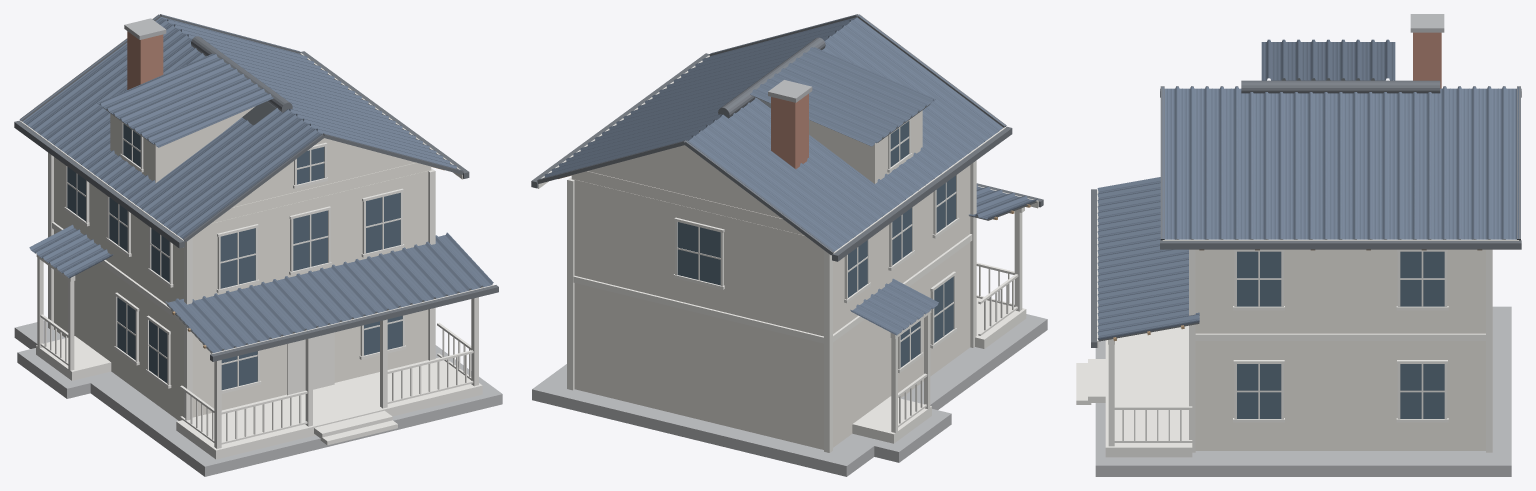
Rendered from Mega_Hi_Rib_Compact_Porch_House.glb.
3 renders of one model, left to right at view 1: azimuth 30°, elevation 25°; view 2: azimuth 150°, elevation 25°; view 3: azimuth 270°, elevation 25°, orthographic. The views are drawn at different scales.
Parts seen in each view (by area): view 1: Main_Walls, Porch_Deck_Front, Foundation_Main, RoofSheet_16, RoofSheet_15, Gable_Wall_Front, RoofSheet_09, RoofSheet_10, RoofSheet_19, RoofSheet_18, RoofSheet_17, Gutter_Porch (+60 smaller); view 2: Main_Walls, Foundation_Main, Gable_Wall_Back, RoofSheet_09, RoofSheet_16, RoofSheet_10, RoofSheet_11, RoofSheet_19, RoofSheet_18, RoofSheet_15, SecondFloor_BandTrim, Gable_Band_Back (+41 smaller); view 3: Main_Walls, Foundation_Main, Porch_Deck_Front, RoofSheet_01, RoofSheet_02, RoofSheet_07, RoofSheet_03, RoofSheet_08, RoofSheet_04, RoofSheet_06, RoofSheet_05, Gutter_Right (+27 smaller).
Part boxes in pixels (box(x1,y1,x2,y2)): Main_Walls: box(54, 157, 431, 420); Porch_Deck_Front: box(176, 357, 482, 459); Foundation_Main: box(14, 320, 502, 476); RoofSheet_16: box(163, 119, 322, 239); RoofSheet_15: box(143, 108, 301, 224); Gable_Wall_Front: box(232, 138, 415, 207); RoofSheet_09: box(20, 15, 179, 135); RoofSheet_10: box(41, 30, 195, 149); RoofSheet_19: box(138, 83, 273, 147); RoofSheet_18: box(118, 68, 253, 132); RoofSheet_17: box(97, 53, 232, 117); Gutter_Porch: box(210, 285, 498, 361); Main_Walls: box(572, 165, 970, 449); Foundation_Main: box(532, 314, 1047, 476); Gable_Wall_Back: box(588, 132, 781, 218); RoofSheet_09: box(687, 125, 854, 251); RoofSheet_16: box(837, 15, 1005, 141); RoofSheet_10: box(708, 113, 876, 236); RoofSheet_11: box(734, 97, 897, 220); RoofSheet_19: box(793, 47, 935, 114); RoofSheet_18: box(771, 63, 914, 130); RoofSheet_15: box(822, 31, 983, 157); SecondFloor_BandTrim: box(573, 234, 972, 343); Gable_Band_Back: box(571, 171, 804, 235); Main_Walls: box(1195, 249, 1485, 450); Foundation_Main: box(1095, 306, 1511, 476); Porch_Deck_Front: box(1105, 325, 1192, 457); RoofSheet_01: box(1162, 87, 1206, 239); RoofSheet_02: box(1207, 87, 1251, 239); RoofSheet_07: box(1430, 87, 1474, 239); RoofSheet_03: box(1251, 92, 1296, 239); RoofSheet_08: box(1474, 87, 1518, 239); RoofSheet_04: box(1296, 92, 1340, 239); RoofSheet_06: box(1385, 92, 1429, 239); RoofSheet_05: box(1341, 92, 1385, 239); Gutter_Right: box(1160, 240, 1521, 249).
Size of the model in its own units: 8.2 by 7.71 by 8.99.
